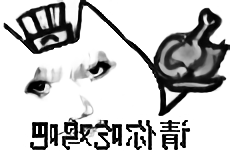dragon: (22, 59, 118, 117)
